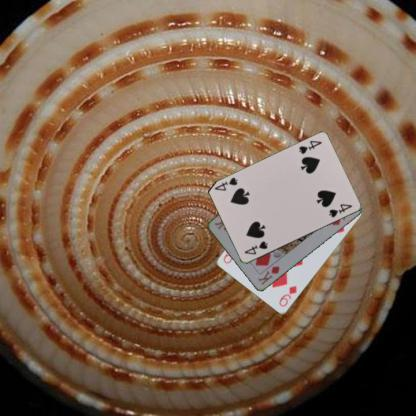4s: (296, 138, 323, 156), (242, 239, 269, 256)
9d: (276, 283, 298, 308)
Kd: (255, 263, 281, 286)
